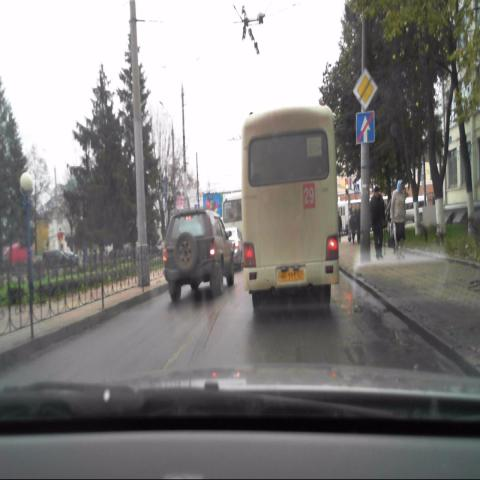2_2: (352, 68, 376, 109)
